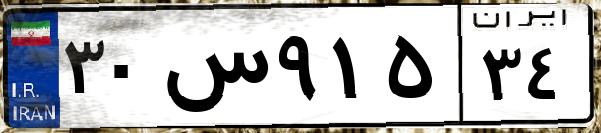0: (110, 28, 158, 98)
1: (330, 28, 385, 110)
3: (57, 26, 110, 100), (475, 38, 525, 113)
4: (525, 38, 570, 115)
5: (385, 28, 445, 110)
9: (270, 28, 330, 110)
س: (158, 20, 270, 120)
